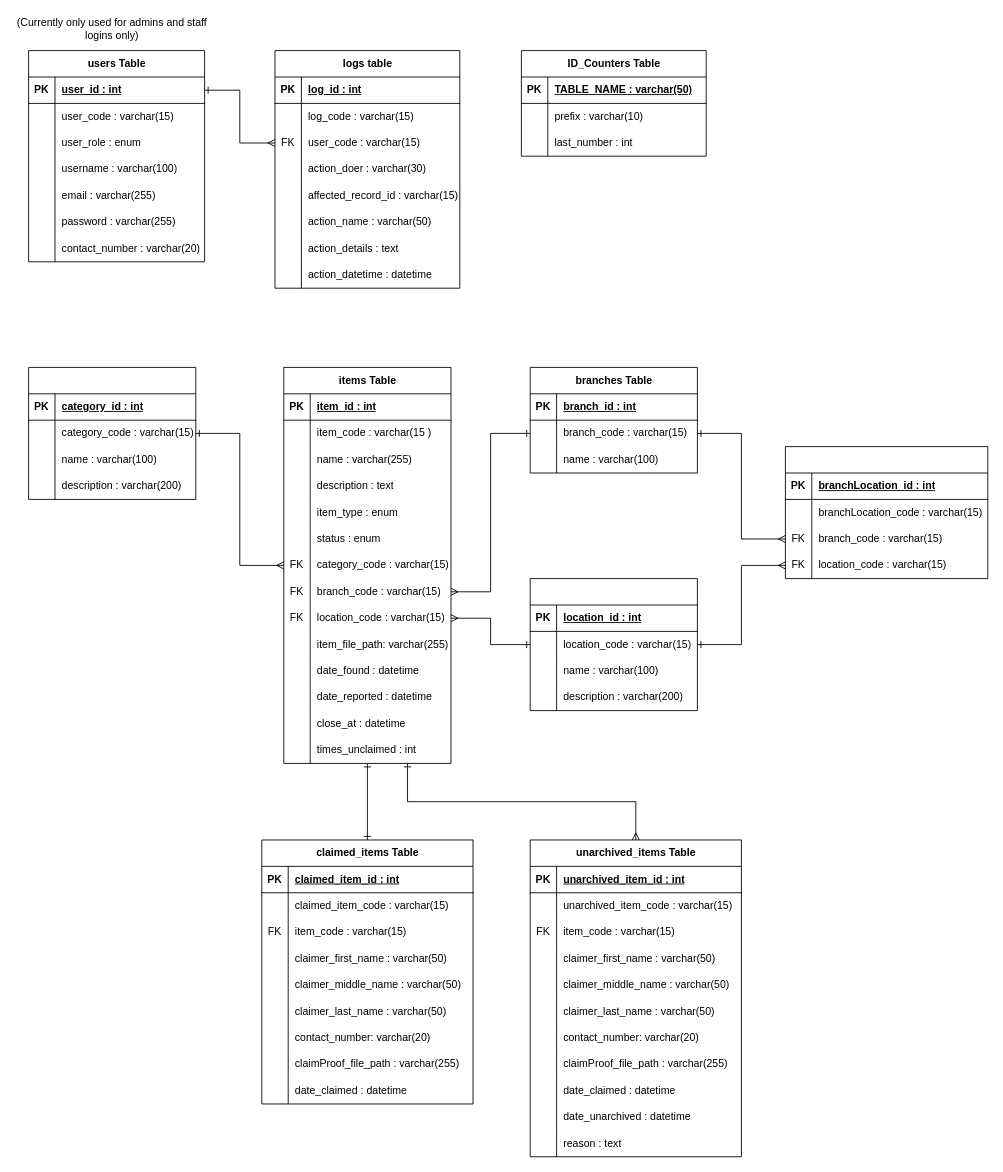
This 1003x1172 diagram has some shape labels left out. The box of each missing label's shape, as (x1, y1, x2, y2) in pixels:
branchLocations Table: (785, 446, 988, 579)
categories Table: (28, 367, 196, 499)
locations Table: (529, 578, 697, 711)
